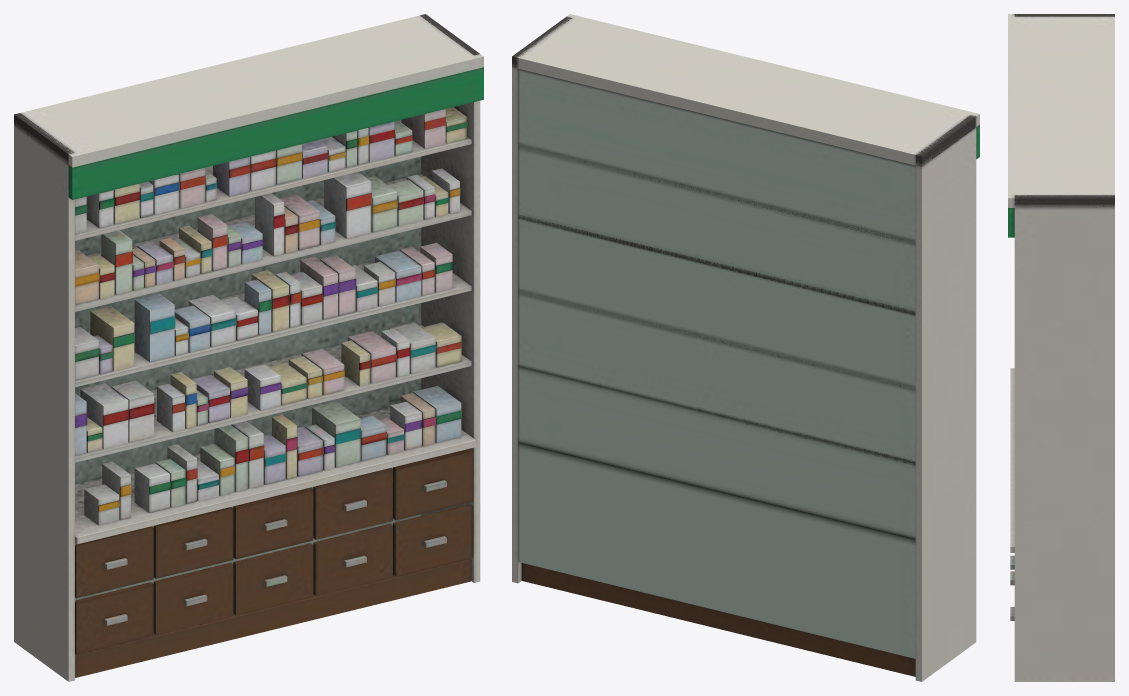
Rendered from regal.glb.
3 views of the same model, side by side, from view 1: azimuth 30°, elevation 25°; view 2: azimuth 150°, elevation 25°; view 3: azimuth 270°, elevation 25° (orthographic). The views are drawn at different scales.
Parts seen in each view (by area): view 1: regal; view 2: regal; view 3: regal.
Part boxes in pixels (<box>): regal: <box>14,14,483,681</box>; regal: <box>512,14,979,681</box>; regal: <box>1008,14,1114,681</box>.
Bounding box in the file's own units: 2 × 2.45 × 0.49.
1 material, 1 textured.
